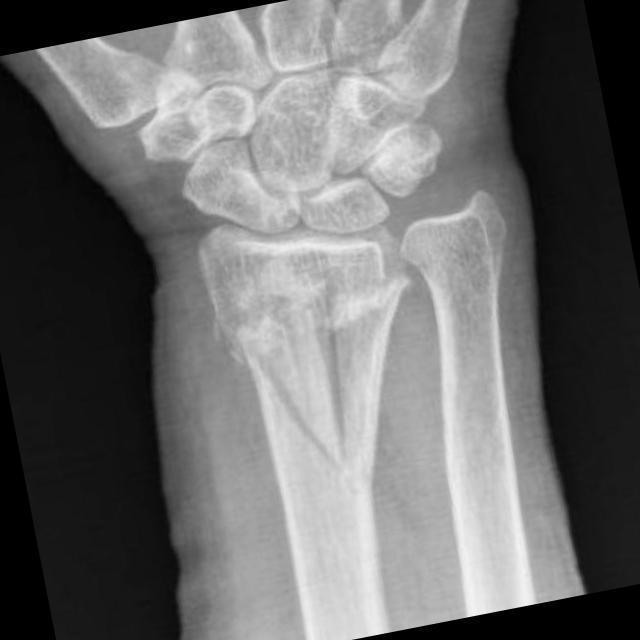bone: (185, 183, 405, 490)
